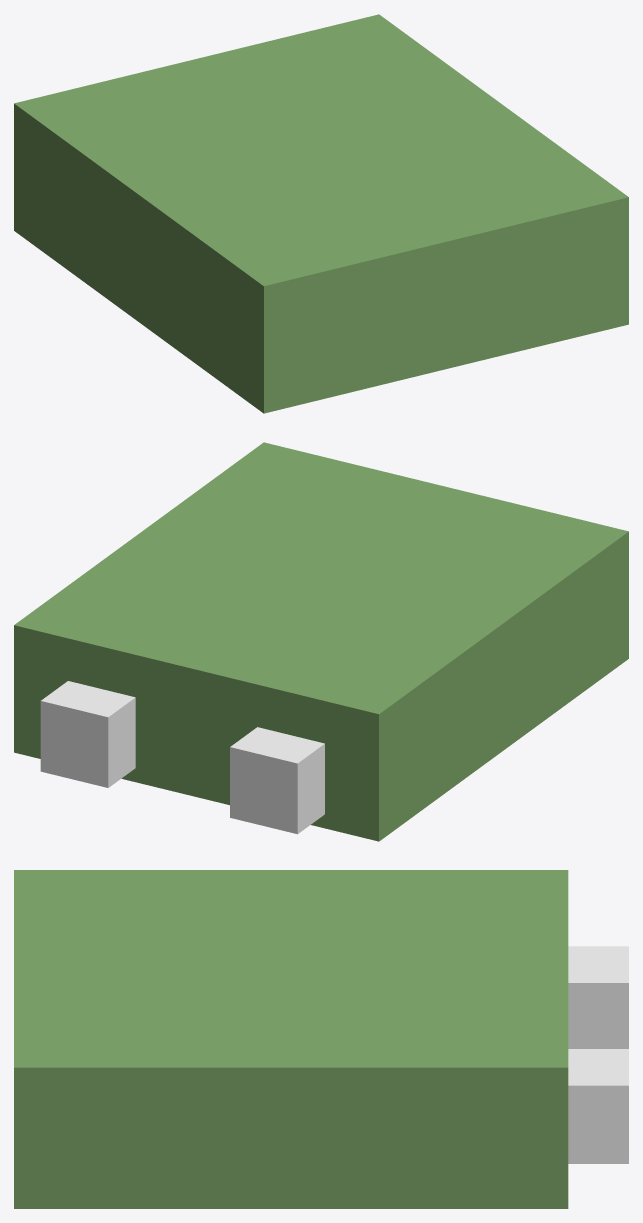
The model's file is dino_pe.glb.
3 views of the same model, one above another, from view 1: azimuth 30°, elevation 25°; view 2: azimuth 150°, elevation 25°; view 3: azimuth 270°, elevation 25° (orthographic). The views are drawn at different scales.
Visible parts, largest first — view 1: dino_pe; view 2: dino_pe; view 3: dino_pe.
Boxes of the visible parts, bbox=[...] form: dino_pe: bbox=[14, 14, 628, 413]; dino_pe: bbox=[14, 442, 628, 841]; dino_pe: bbox=[14, 870, 628, 1208].
Bounding box in the file's own units: 0.27 × 0.09 × 0.355.
